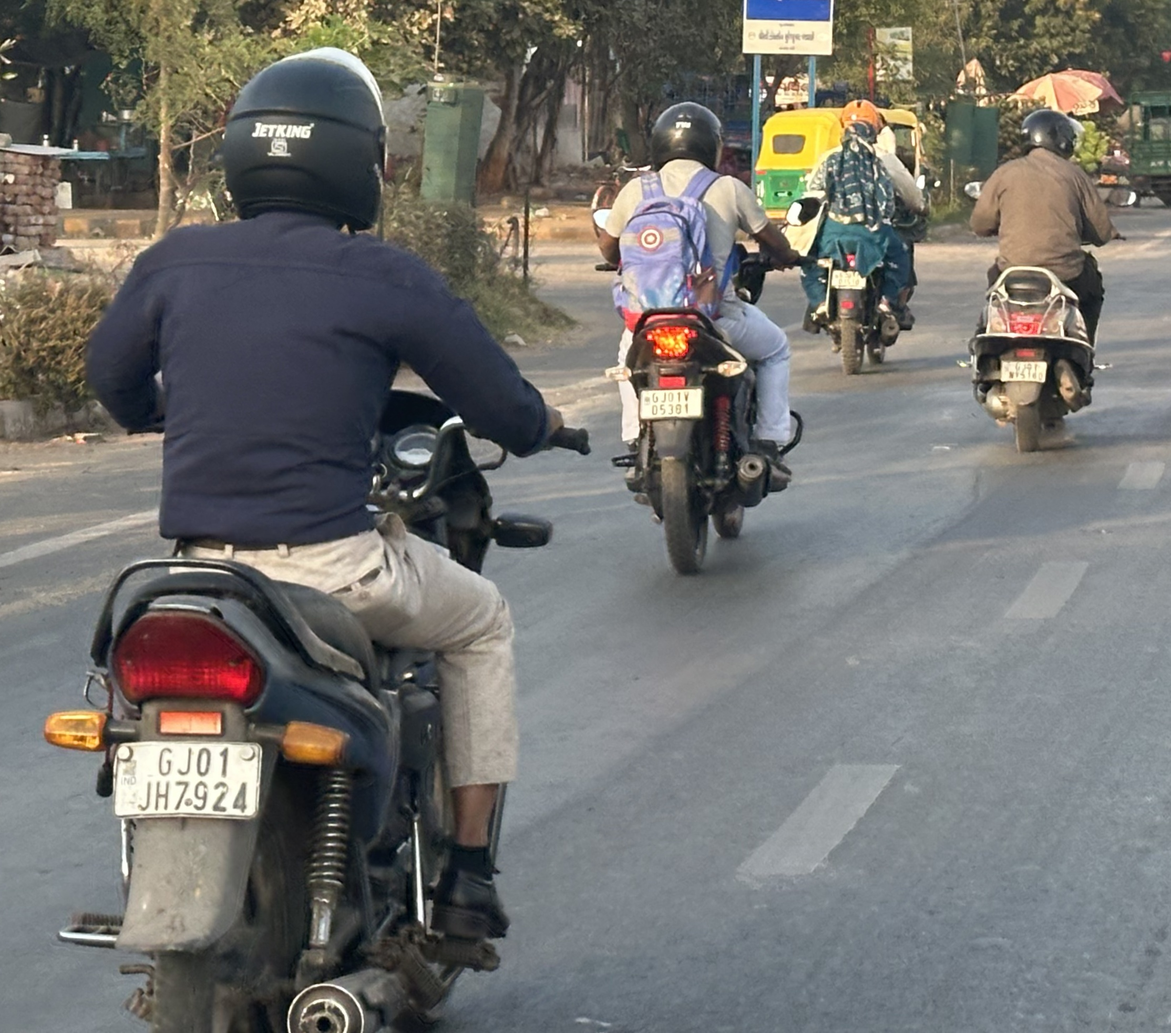BikeWithRider: (30, 35, 601, 1031), (581, 90, 815, 585), (949, 99, 1128, 464), (787, 89, 937, 381)
Helmet: (202, 37, 405, 243), (641, 93, 732, 180), (1010, 103, 1089, 168)
